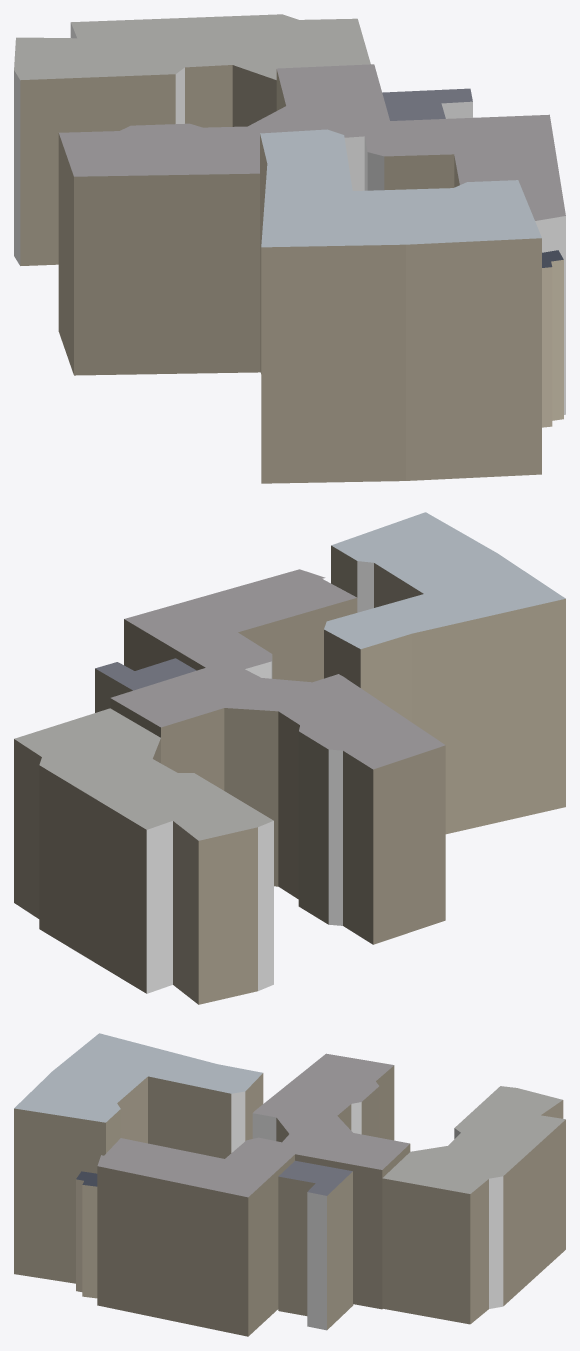
3 views of the same model, one above another, from view 1: azimuth 30°, elevation 25°; view 2: azimuth 150°, elevation 25°; view 3: azimuth 270°, elevation 25° (orthographic). The views are drawn at different scales.
Parts seen in each view (by area): view 1: tuile; view 2: tuile; view 3: tuile.
Boxes of the visible parts, <box> form: tuile: <box>14,14,565,483</box>; tuile: <box>14,512,565,1004</box>; tuile: <box>14,1033,565,1336</box>.
Bounding box in the file's own units: 36.3 × 20.03 × 58.9.
